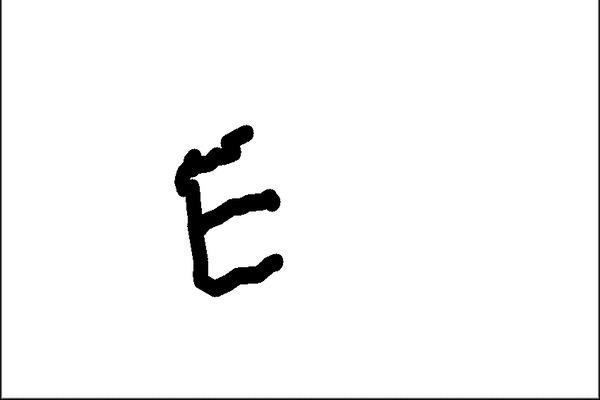E: (169, 121, 290, 300)
